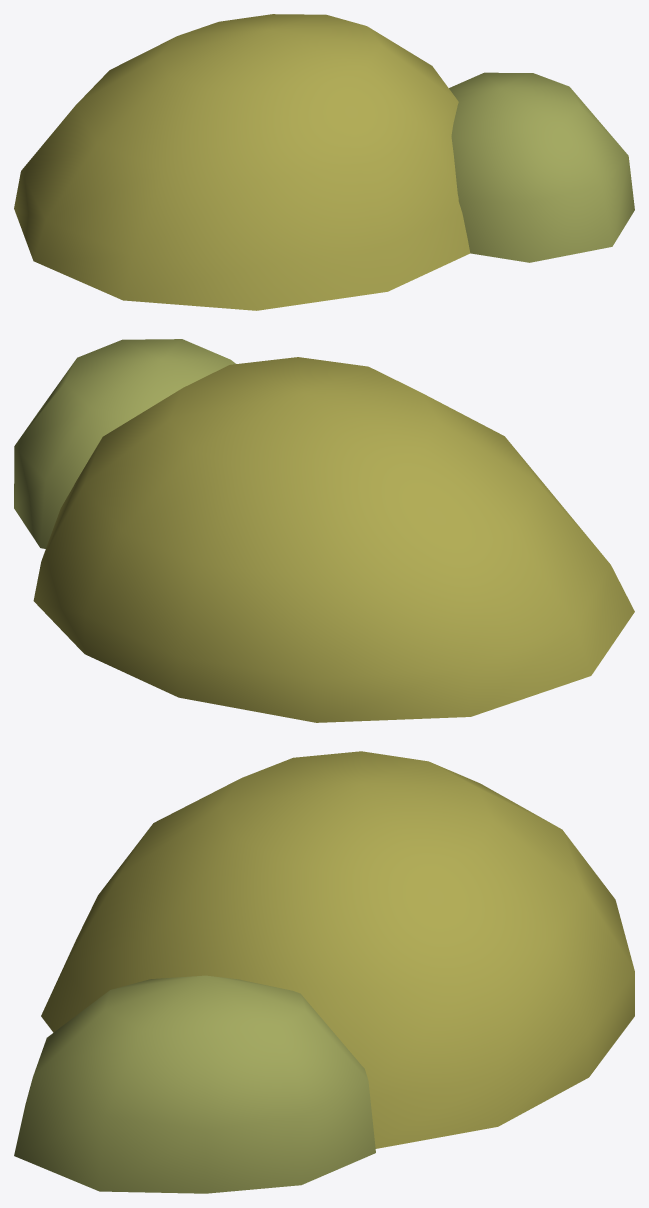
The model's file is coral-b.glb.
3 renders of one model, top to bottom at view 1: azimuth 30°, elevation 25°; view 2: azimuth 150°, elevation 25°; view 3: azimuth 270°, elevation 25°, orthographic. The views are drawn at different scales.
Visible parts, largest first — view 1: coral-b; view 2: coral-b; view 3: coral-b.
Part boxes in pixels (left/top/right/bottom): coral-b: left=14, top=14, right=634, bottom=310; coral-b: left=14, top=339, right=634, bottom=722; coral-b: left=14, top=751, right=634, bottom=1193.
Size of the model in its own units: 1.11 by 0.3617 by 0.8787.
